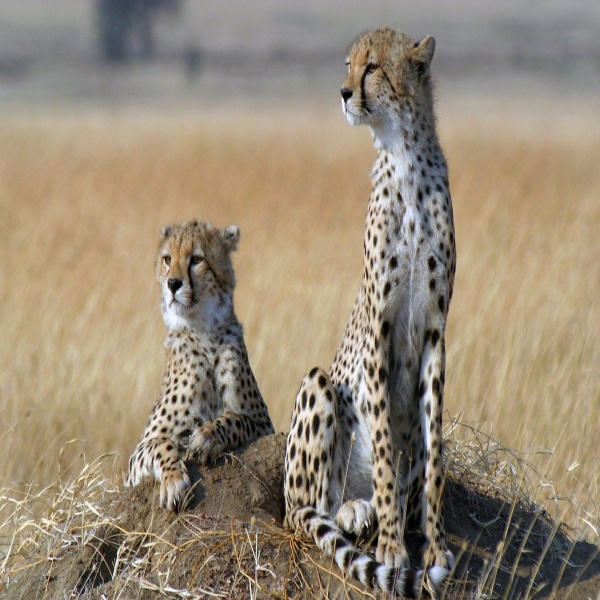Cheetah: (283, 23, 463, 596), (125, 217, 284, 518)
